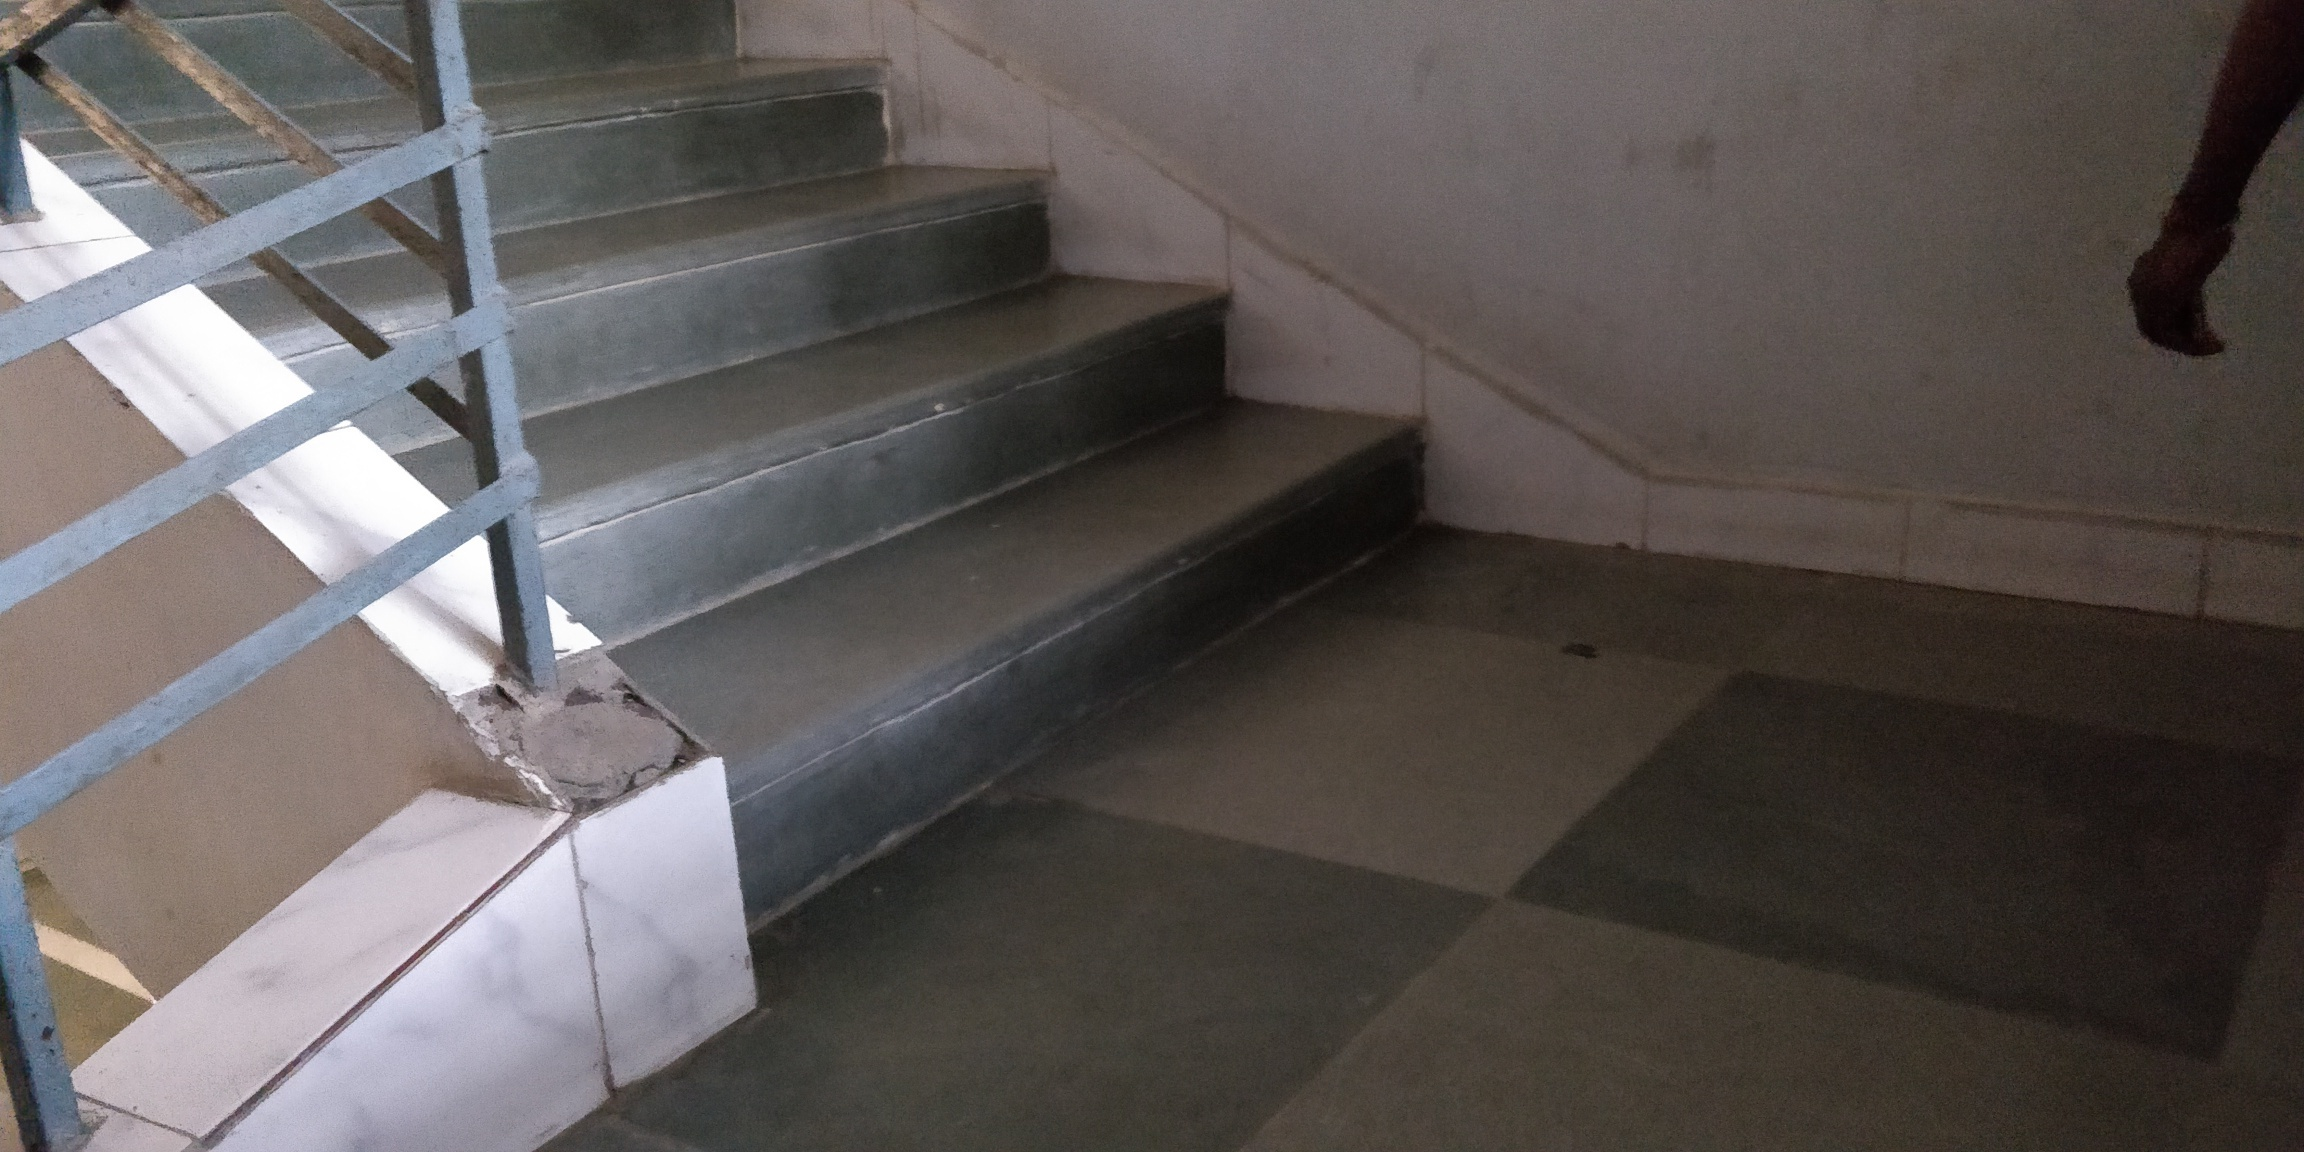stairs_up: (128, 47, 1472, 907)
